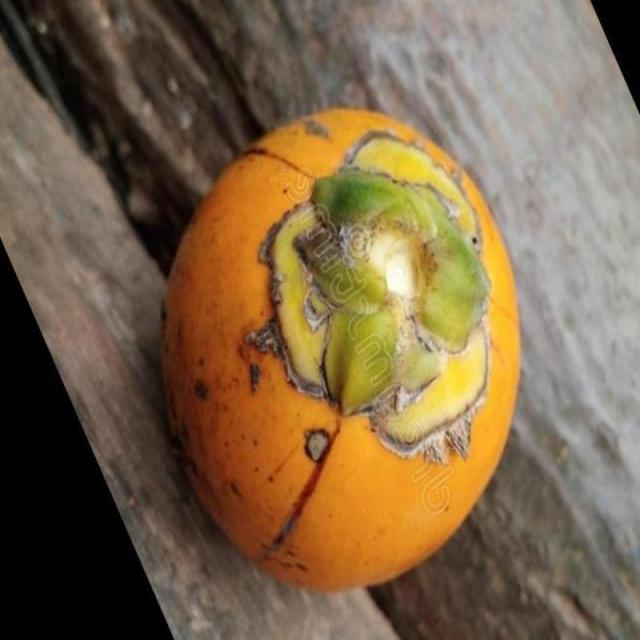good: (158, 108, 523, 595)
